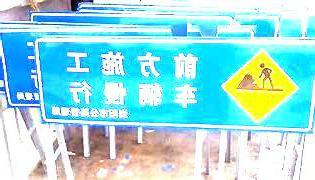sign: (36, 37, 315, 132)
